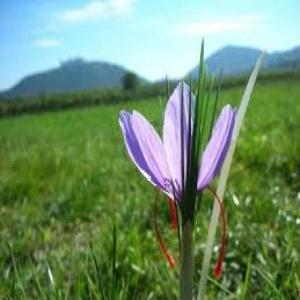Saffron: (119, 80, 236, 216)
